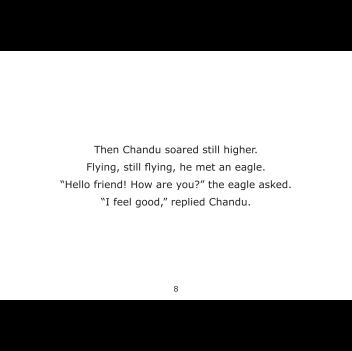latin: (58, 176, 293, 190), (85, 159, 266, 174), (91, 141, 258, 156), (99, 194, 251, 209)
